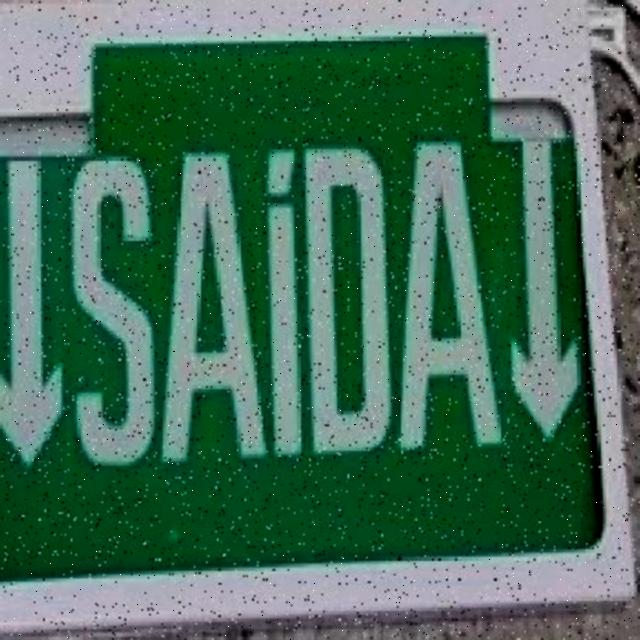emergency_exit: (0, 2, 640, 628)
